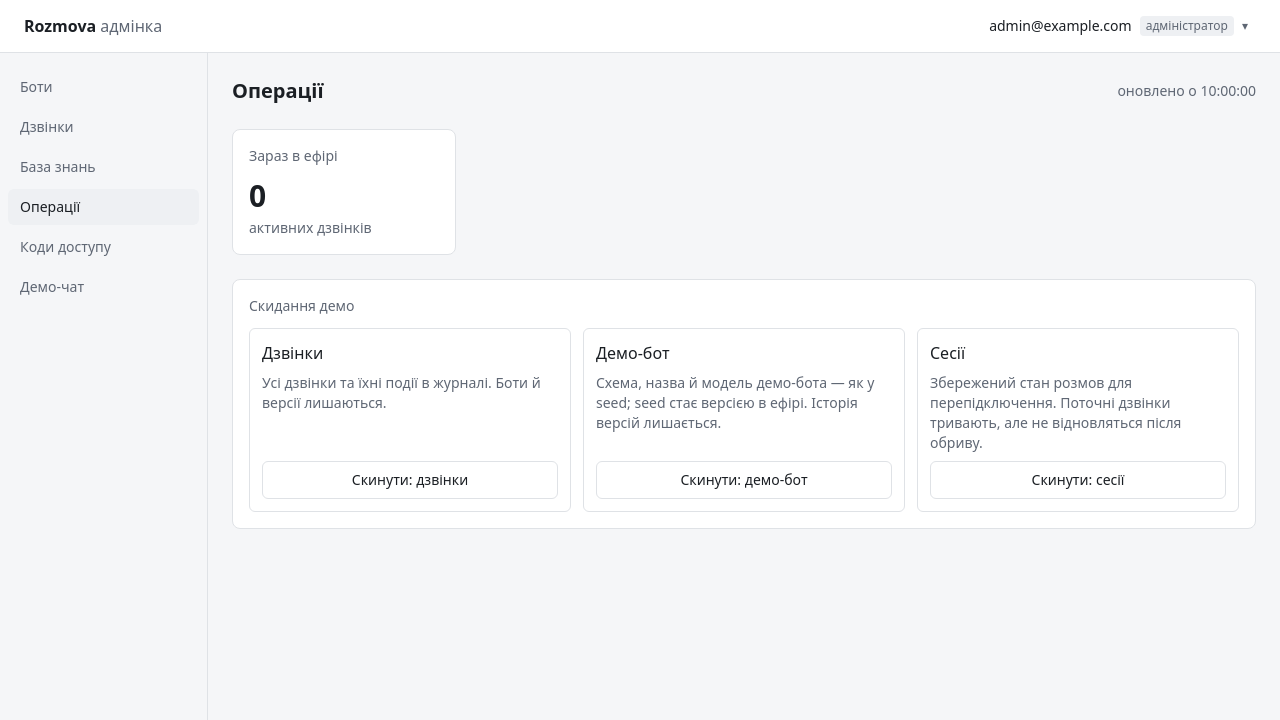
it: an admin resets one demo area after confirming
Click the button "Скинути: дзвінки": click(410, 480) [262,461,558,499]
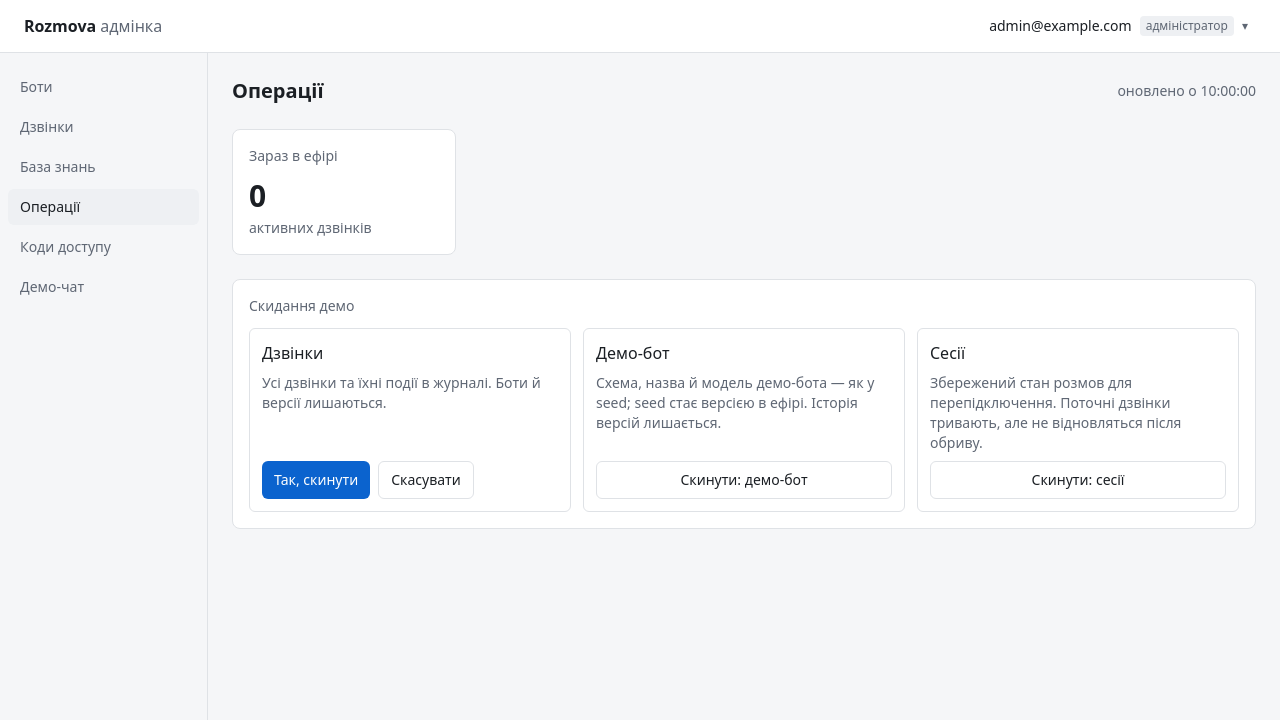
Click the button "Так, скинути": click(316, 480) [262,461,370,499]
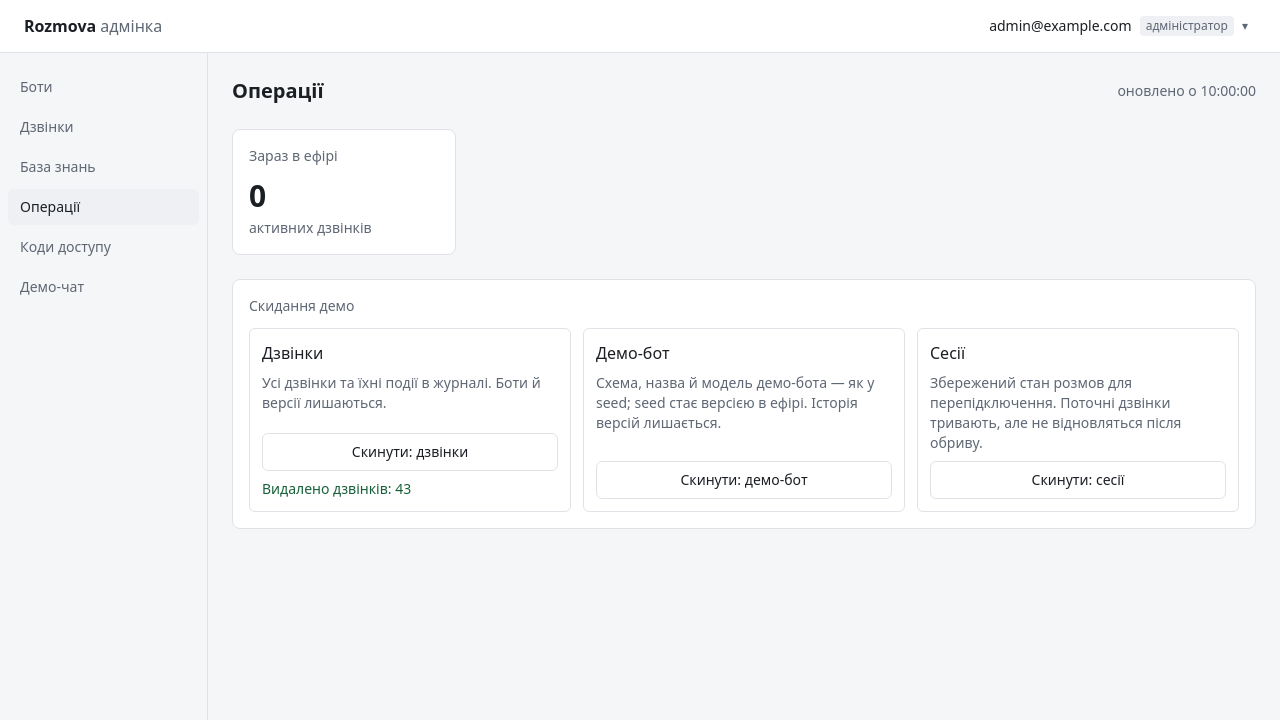
Expected: the message reads "Видалено дзвінків: 43", [262,479,411,498]
Click the button "Скинути: демо-бот": click(744, 480) [596,461,892,499]
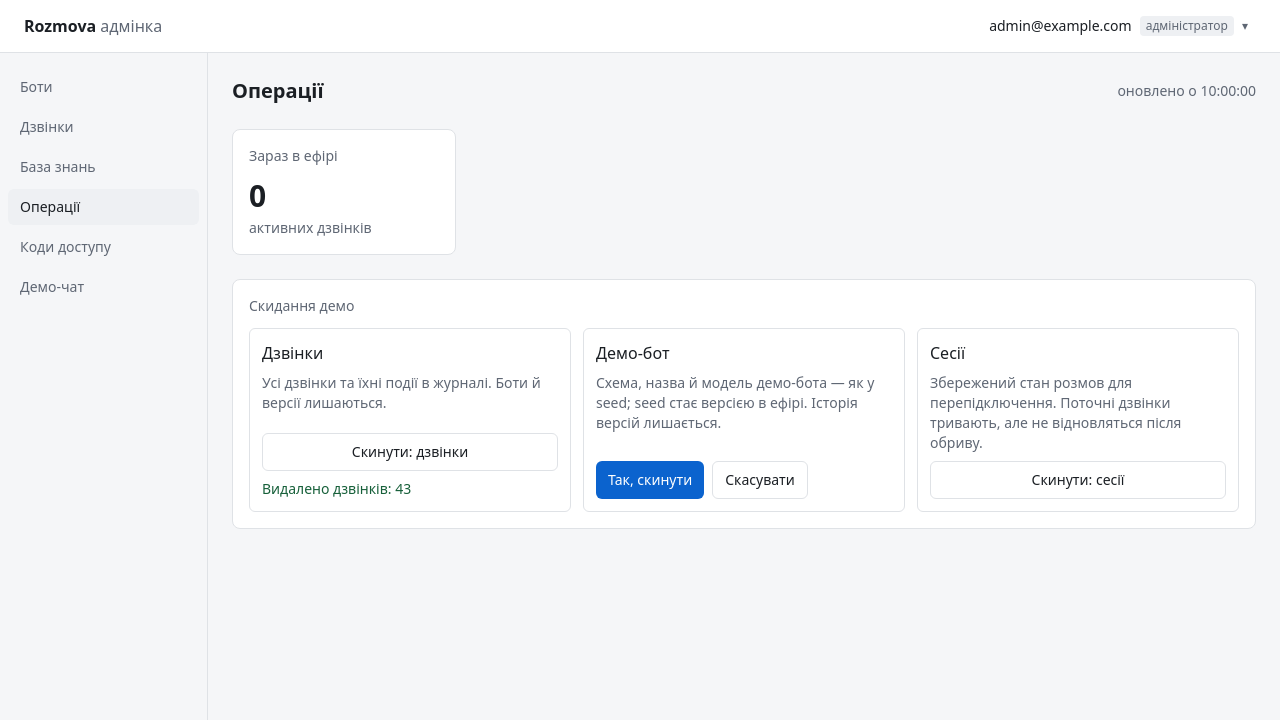
Click the button "Так, скинути": click(650, 480) [596,461,704,499]
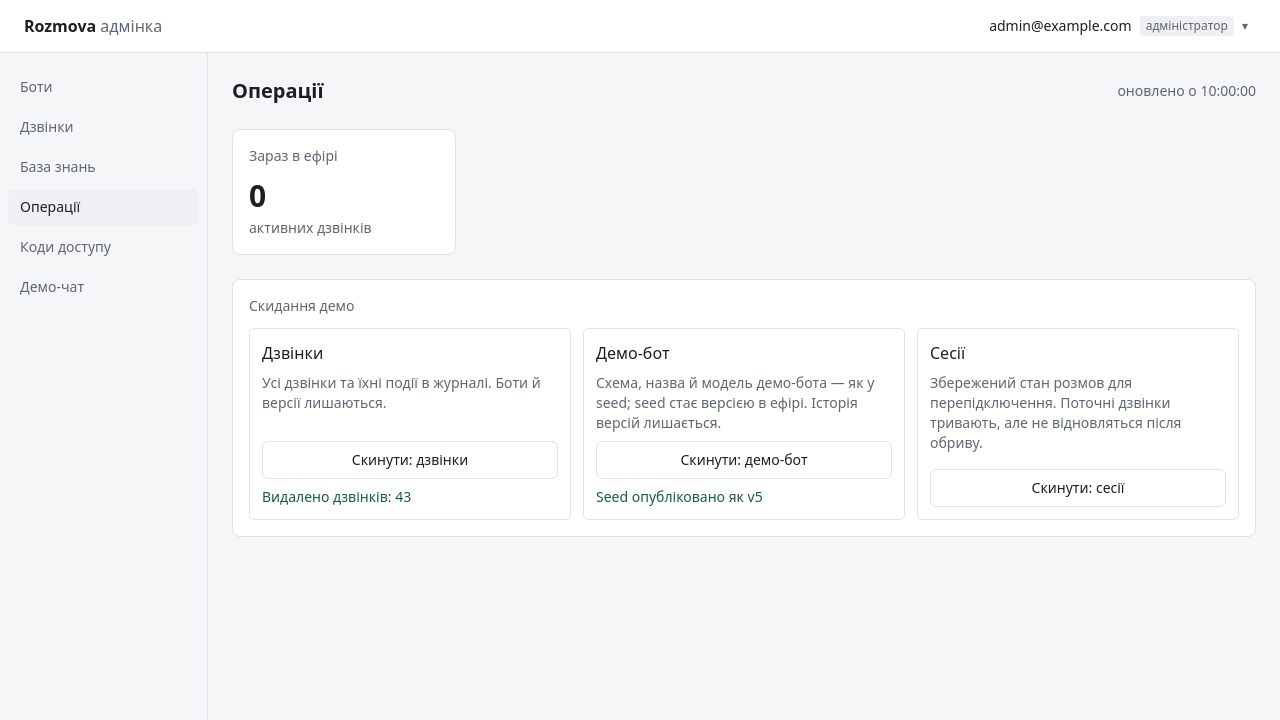
Expected: the message "Seed опубліковано як v5" is shown, [596,487,763,506]
